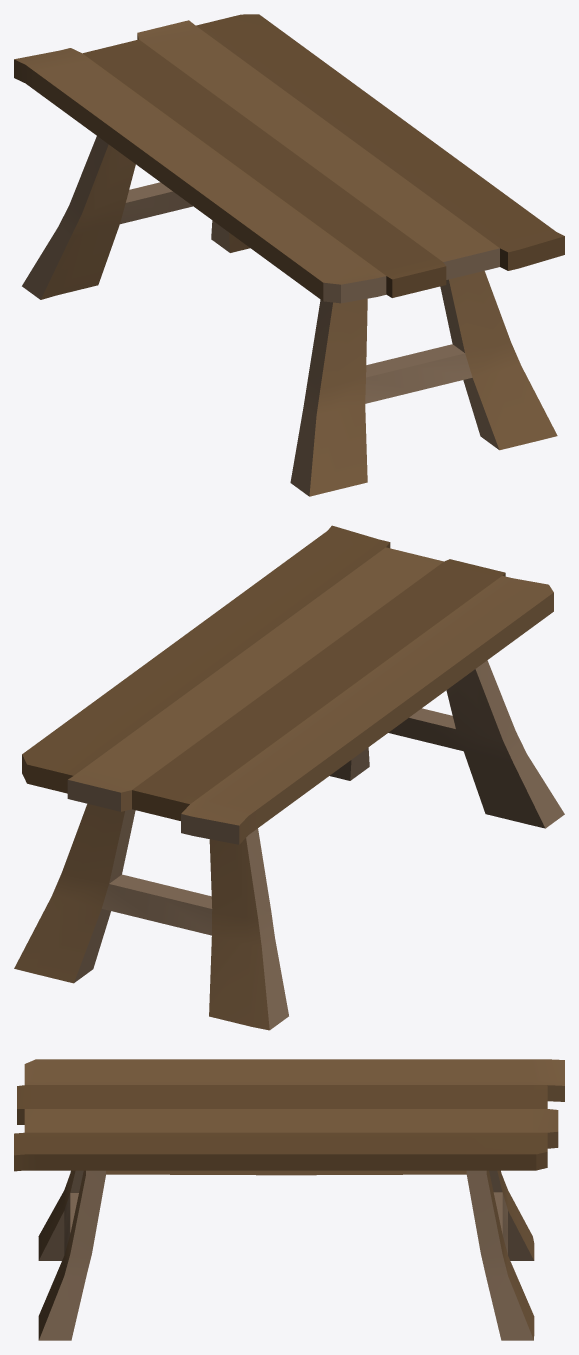
File: wood_table.fbx
3 views of the same model, one above another, from view 1: azimuth 30°, elevation 25°; view 2: azimuth 150°, elevation 25°; view 3: azimuth 270°, elevation 25° (orthographic). The views are drawn at different scales.
Parts seen in each view (by area): view 1: wood_table; view 2: wood_table; view 3: wood_table.
Part boxes in pixels (<box>): wood_table: <box>14,14,564,496</box>; wood_table: <box>14,525,564,1030</box>; wood_table: <box>14,1059,564,1340</box>.
Bounding box in the file's own units: 117 × 95.67 × 262.
